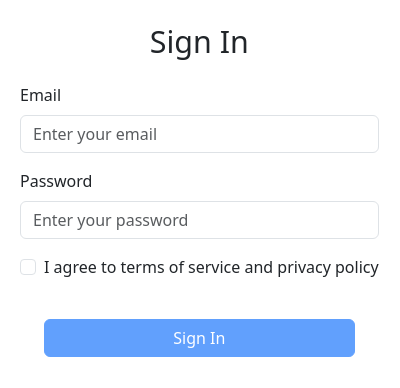
Login Form Validation › Yanlış email girildiğinde hata mesajı ve submit butonu disabled olmalı
The image size is (400, 388).
// Yanlış email gir
Type "Beyza" into the field with test id "email-input".
click(200, 134); type("Beyza")  # box [20, 115, 379, 153]
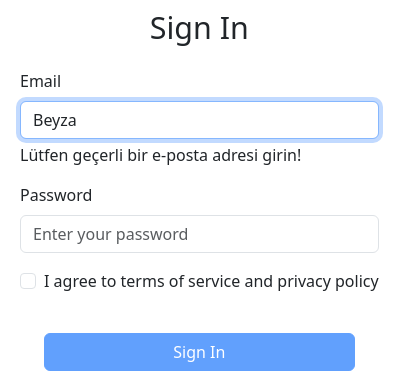
expect the text with test id "email-error" reads "Lütfen geçerli bir e-posta adresi girin!": met, box [20, 144, 301, 166]
